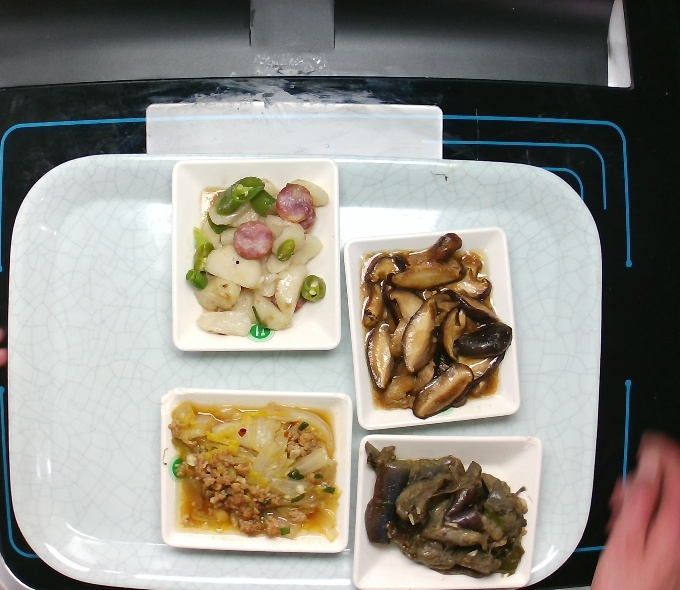wcq-MaTiGuo: (186, 171, 332, 341)
wcq-MoGu: (350, 230, 516, 418)
wcq-QieZi: (352, 441, 537, 582)
wcq-RouMoBaiCai: (167, 386, 340, 569)
